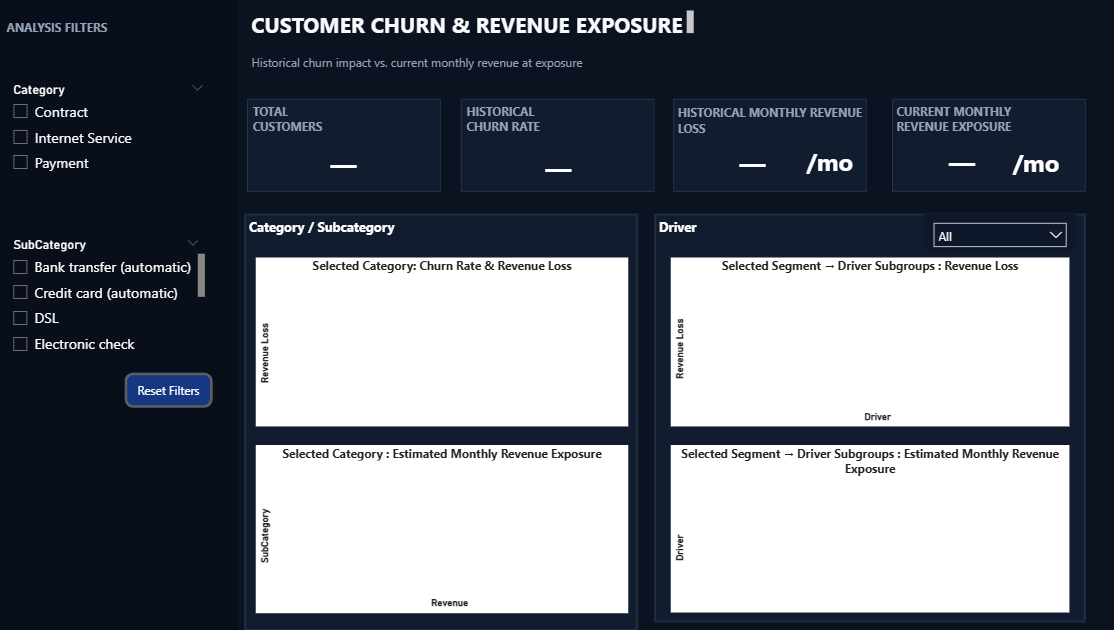

What the dashboard file says about the page in this screenshot:
{"tool":"powerbi","page":{"name":"Page 1","canvas":[1280,720],"ordinal":0},"visuals":[{"type":"shape","box":[0,0,278.7,720.2],"z":0},{"type":"textbox","box":[288.8,12.8,510.9,38.5],"z":1000},{"type":"textbox","box":[11.6,23.1,128.4,38.5],"z":2000},{"type":"slicer","fields":{"Values":["Category.Category"]},"box":[11.6,93.7,240,128.4],"z":3000},{"type":"slicer","fields":{"Values":["CategorySubCategory.SubCategory"]},"box":[11.6,268.3,234.9,148.9],"z":4000},{"type":"textbox","box":[288.8,61.6,510.9,32.1],"z":5000},{"type":"shape","box":[288.8,116.8,219.5,105.3],"z":6000},{"type":"shape","box":[530.1,116.8,219.5,105.3],"z":7000},{"type":"shape","box":[771.4,116.8,219.5,105.3],"z":8000},{"type":"shape","box":[1017.9,116.8,219.5,105.3],"z":9000},{"type":"textbox","box":[290.1,116.8,219.5,50.1],"z":10000},{"type":"textbox","box":[531.4,116.8,218.2,50.1],"z":11000},{"type":"textbox","box":[771.4,119.4,219.5,50.1],"z":12000},{"type":"textbox","box":[1017.9,118.1,219.5,53.9],"z":13000},{"type":"shape","box":[285.8,247.6,445.6,472.5],"z":14000},{"type":"shape","box":[749.8,247.6,488.1,462.6],"z":16000},{"type":"clusteredBarChart","fields":{"Category":["CategorySubCategory.SubCategory"],"Y":["Measures (2).Selected Current Monthly Revenue Exposure"]},"box":[298.5,509.3,421.6,190],"z":19000},{"type":"card","fields":{"Values":["Measures (2).Selected Customers"]},"box":[340.2,165.6,116.8,51.3],"z":20000},{"type":"card","fields":{"Values":["Measures (2).Selected Churn Rate Display"]},"box":[581.5,169.4,119.4,51.3],"z":21000},{"type":"card","fields":{"Values":["Measures (2).Selected Historical Revenue Loss Display"]},"box":[771,164.1,179.7,52.3],"z":22000},{"type":"textbox","box":[916.1,165.6,75.3,45.2],"z":23000},{"type":"textbox","box":[1150.7,167.6,75.7,45.9],"z":24000},{"type":"actionButton","box":[150.7,426.6,99.8,39.9],"z":25000},{"type":"card","fields":{"Values":["Measures (2).Current Revenue Exposure Display"]},"box":[1034,163.8,127.9,49.7],"z":26000},{"type":"lineClusteredColumnComboChart","fields":{"Y":["Measures (2).Chart Historical Revenue Loss"],"Y2":["Measures (2).Selected Churn Rate"],"Category":["CategorySubCategory.SubCategory"]},"box":[298.5,297.1,421.6,191],"z":27000},{"type":"lineClusteredColumnComboChart","fields":{"Category":["DriverValues.Driver Label"],"Y":["Measures (2).Driver Historical Revenue Loss"]},"box":[768.2,297.1,451.3,191],"z":28000},{"type":"clusteredBarChart","fields":{"Category":["DriverValues.DriverValue"],"Y":["Measures (2).Driver Current Revenue Exposure"]},"box":[768.2,509.3,451.3,189.6],"z":29000},{"type":"slicer","fields":{"Values":["DriverValues.Driver"]},"box":[1055.4,247.6,171.2,42.4],"z":31000},{"type":"textbox","box":[749.8,247.6,100.4,41],"z":32000},{"type":"textbox","box":[285.8,247.6,185.3,41],"z":33000}]}

Visuals, with their boxes in screenshot pixels (x1, y1, x2, y2), scaled from the page's 1280x720 canvas onto the 1114x630 screenshot:
shape: [0,0,243,629]
textbox: [251,11,696,45]
textbox: [10,20,122,54]
slicer - Category.Category: [10,82,219,194]
slicer - CategorySubCategory.SubCategory: [10,235,215,365]
textbox: [251,54,696,82]
shape: [251,102,442,194]
shape: [461,102,652,194]
shape: [671,102,862,194]
shape: [886,102,1077,194]
textbox: [252,102,444,146]
textbox: [462,102,652,146]
textbox: [671,104,862,148]
textbox: [886,103,1077,150]
shape: [249,217,637,629]
shape: [653,217,1077,621]
clusteredBarChart - CategorySubCategory.SubCategory x Measures (2).Selected Current Monthly Revenue Exposure: [260,446,627,612]
card - Measures (2).Selected Customers: [296,145,398,190]
card - Measures (2).Selected Churn Rate Display: [506,148,610,193]
card - Measures (2).Selected Historical Revenue Loss Display: [671,144,827,189]
textbox: [797,145,863,184]
textbox: [1001,147,1067,187]
actionButton: [131,373,218,408]
card - Measures (2).Current Revenue Exposure Display: [900,143,1011,187]
lineClusteredColumnComboChart - Measures (2).Chart Historical Revenue Loss x Measures (2).Selected Churn Rate: [260,260,627,427]
lineClusteredColumnComboChart - DriverValues.Driver Label x Measures (2).Driver Historical Revenue Loss: [669,260,1061,427]
clusteredBarChart - DriverValues.DriverValue x Measures (2).Driver Current Revenue Exposure: [669,446,1061,612]
slicer - DriverValues.Driver: [919,217,1068,254]
textbox: [653,217,740,253]
textbox: [249,217,410,253]
